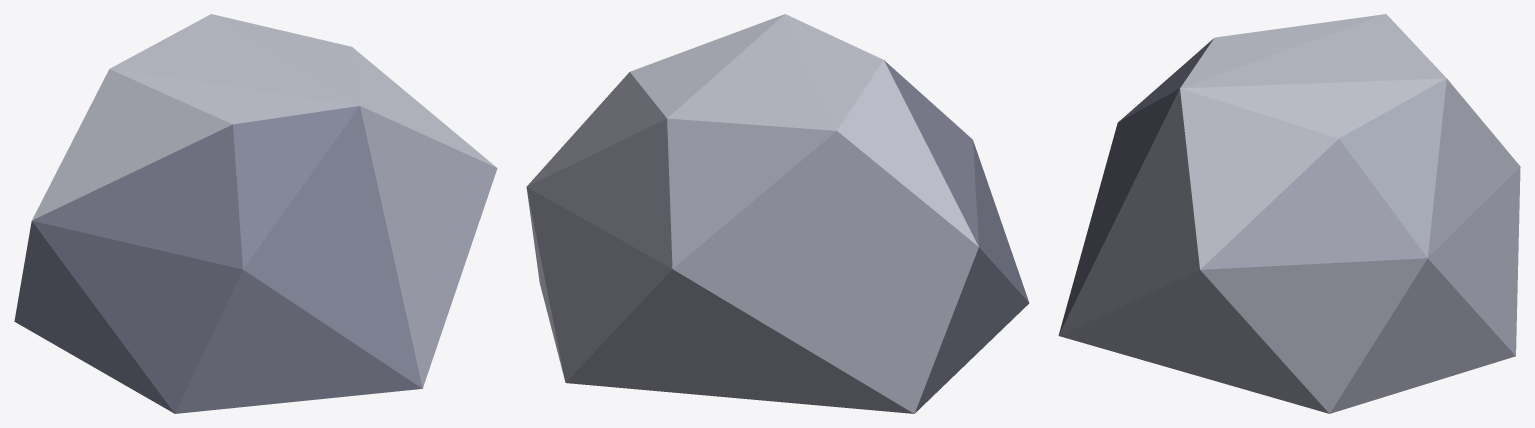
File: stone_smallB.glb
3 views of the same model, side by side, from view 1: azimuth 30°, elevation 25°; view 2: azimuth 150°, elevation 25°; view 3: azimuth 270°, elevation 25° (orthographic). The views are drawn at different scales.
Visible parts, largest first — view 1: stone_smallB; view 2: stone_smallB; view 3: stone_smallB.
Boxes of the visible parts, x1,y1,x2,y2 form: stone_smallB: (14,14,497,413); stone_smallB: (526,14,1029,413); stone_smallB: (1058,14,1520,413).
Bounding box in the file's own units: 0.3192 × 0.177 × 0.3004.
Materials: 1 (1 with a texture image).
